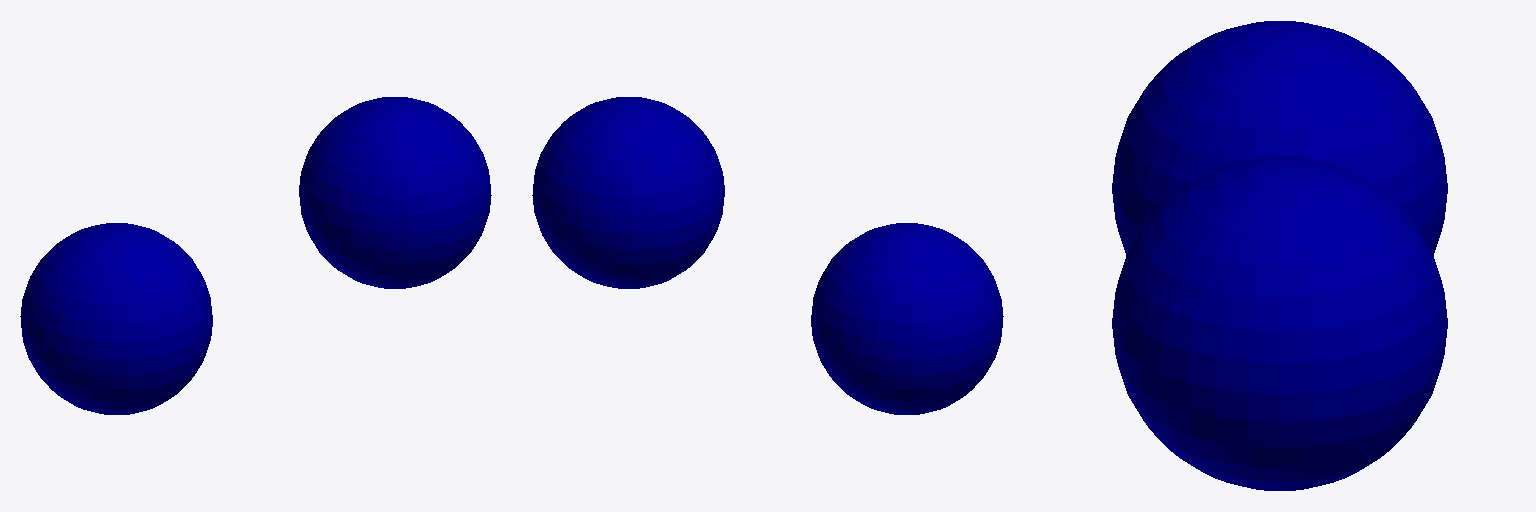
URDF robot description (Floor):
<robot name="Floor">
    <link name="robot_base">
        <visual name="ball1">
            <origin rpy="0.000000 0.000000 -0.000000" xyz="0.000000 1.000000 0.80000" />
            <geometry>
                <sphere radius="0.3" />
            </geometry>
            <material name="CFSObstacle_material">
                <color rgba="0.000000 0.0 0.640000 1.0" />
            </material>
        </visual>
        <collision name="ball1">
            <origin rpy="0.000000 0.000000 -0.000000" xyz="0.000000 1.000000 0.80000" />
            <geometry>
                <sphere radius="0.3" />
                <dissipation>1</dissipation>
            </geometry>
        </collision>
        <visual name="ball2">
            <origin rpy="0.000000 0.000000 -0.000000" xyz="1 1 1" />
            <geometry>
                <sphere radius="0.3" />
            </geometry>
            <material name="CFSObstacle_material">
                <color rgba="0.000000 0.0 0.640000 1.0" />
            </material>
        </visual>
        <collision name="ball2">
            <origin rpy="0.000000 0.000000 -0.000000" xyz="1 1 1" />
            <geometry>
                <sphere radius="0.3" />
                <dissipation>1</dissipation>
            </geometry>
        </collision>
        <visual name="Floor_2">
            <origin rpy="1.57 3.141593 -3.141593" xyz="0.000000 0.000000 -0.100000" />
            <geometry>
                <mesh filename="[local-path]/Documents/workspace/drake_cfs_lib/script/environment_description/environment/environment_Floor_vis_1.obj" />
            </geometry>
            <material name="Floor_material">
                <color rgba="0.640000 0.640000 0.640000 1.0" />
            </material>
        </visual>
        <visual name="Floor_3">
            <origin rpy="1.57 3.141593 -3.141593" xyz="0.000000 0.000000 -0.100000" />
            <geometry>
                <mesh filename="[local-path]/Documents/workspace/drake_cfs_lib/script/environment_description/environment/environment_Floor_vis_2.obj" />
            </geometry>
            <material name="Floor_material">
                <color rgba="0.640000 0.640000 0.640000 1.0" />
            </material>
        </visual>
        <visual name="Box">
            <origin rpy="3.141533 3.141591 -3.141587" xyz="-0.875000 0.575000 0.880000" />
            <geometry>
                <mesh filename="[local-path]/Documents/workspace/drake_cfs_lib/script/environment_description/environment/environment_Box_vis_1.obj" />
            </geometry>
            <material name="Box_material">
                <color rgba="0.627451 0.627451 0.627451 1.0" />
            </material>
        </visual>
        <visual name="Bagging_Machine">
            <origin rpy="0.0 0.0 1.57" xyz="2.025000 0.935000 0.830000" />
            <geometry>
                <mesh filename="[local-path]/Documents/workspace/drake_cfs_lib/script/environment_description/environment/environment_BaggingMachine_vis_1.obj" />
            </geometry>
            <material name="BaggingMachine_material">
                <color rgba="1.000000 1.000000 1.000000 1.0" />
            </material>
        </visual>
        <visual name="Table">
            <origin rpy="1.570796 1.570853 -1.570796" xyz="-0.690000 0.700000 0.470000" />
            <geometry>
                <mesh filename="[local-path]/Documents/workspace/drake_cfs_lib/script/environment_description/environment/environment_Table_vis_1.obj" />
            </geometry>
            <material name="Table_material">
                <color rgba="1.000000 1.000000 1.000000 1.0" />
            </material>
        </visual>
    </link>
</robot>

--- What the picture shows (computed from the rendered views, not written in the file) ---
The picture shows the robot from 3 angles, left to right: view 1: azimuth 30°, elevation 25°; view 2: azimuth 150°, elevation 25°; view 3: azimuth 270°, elevation 25°; orthographic projection.
Model Floor with 1 links and 0 joints (none), rooted at robot_base, posed all joints at 0.
Links seen in each view (by area): view 1: robot_base; view 2: robot_base; view 3: robot_base.
Link boxes in pixels (x1,y1,x2,y2): robot_base: (20,97,491,414); robot_base: (532,97,1003,414); robot_base: (1112,21,1447,490).
Size in the robot's own frame: 1.6 by 0.6 by 0.8 metres.
Geometry: only primitive shapes (box / cylinder / sphere) drawn; not drawn: 5 mesh visuals (reference in a form the renderer does not follow).